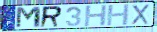3: (66, 6, 83, 27)
H: (83, 4, 108, 28), (105, 4, 131, 27)
M: (15, 6, 42, 29)
R: (39, 5, 64, 29)
X: (131, 4, 150, 25)
